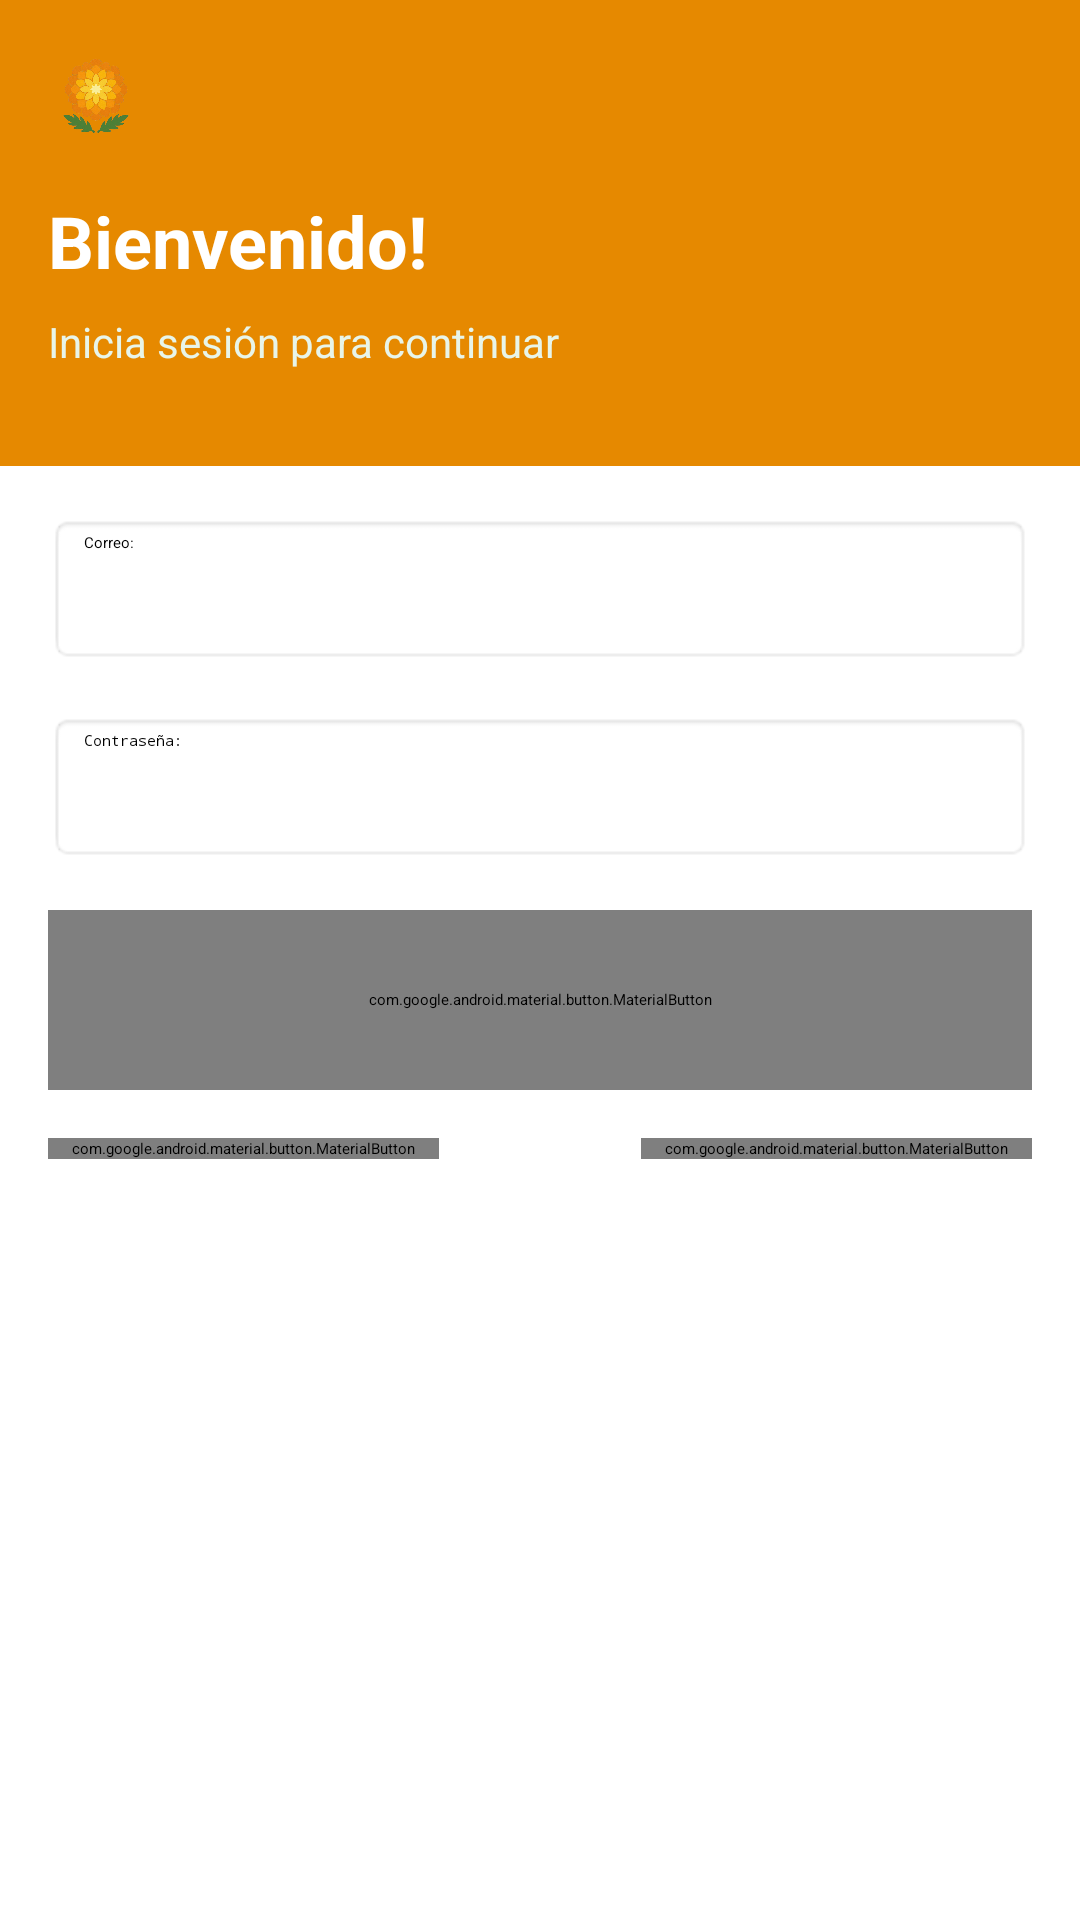

Icon click points for this 1080×1920 phone screenshot, format [x,y]:
flor: [96,96]
